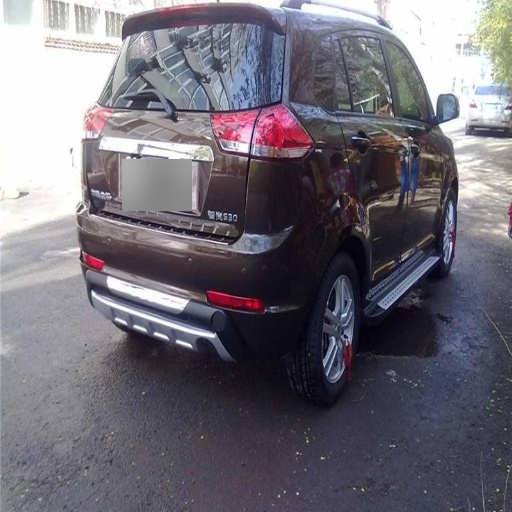back_bumper: (81, 158, 324, 349)
back_right_door: (312, 26, 410, 281)
tailgate: (168, 187, 236, 233)
trunk: (94, 109, 259, 234)
